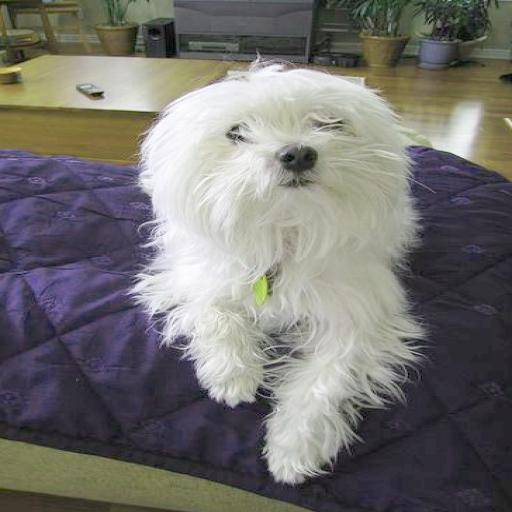dog_face: (128, 62, 387, 244)
